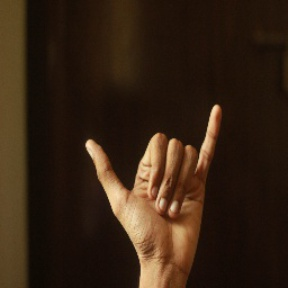J: (84, 79, 225, 256)
